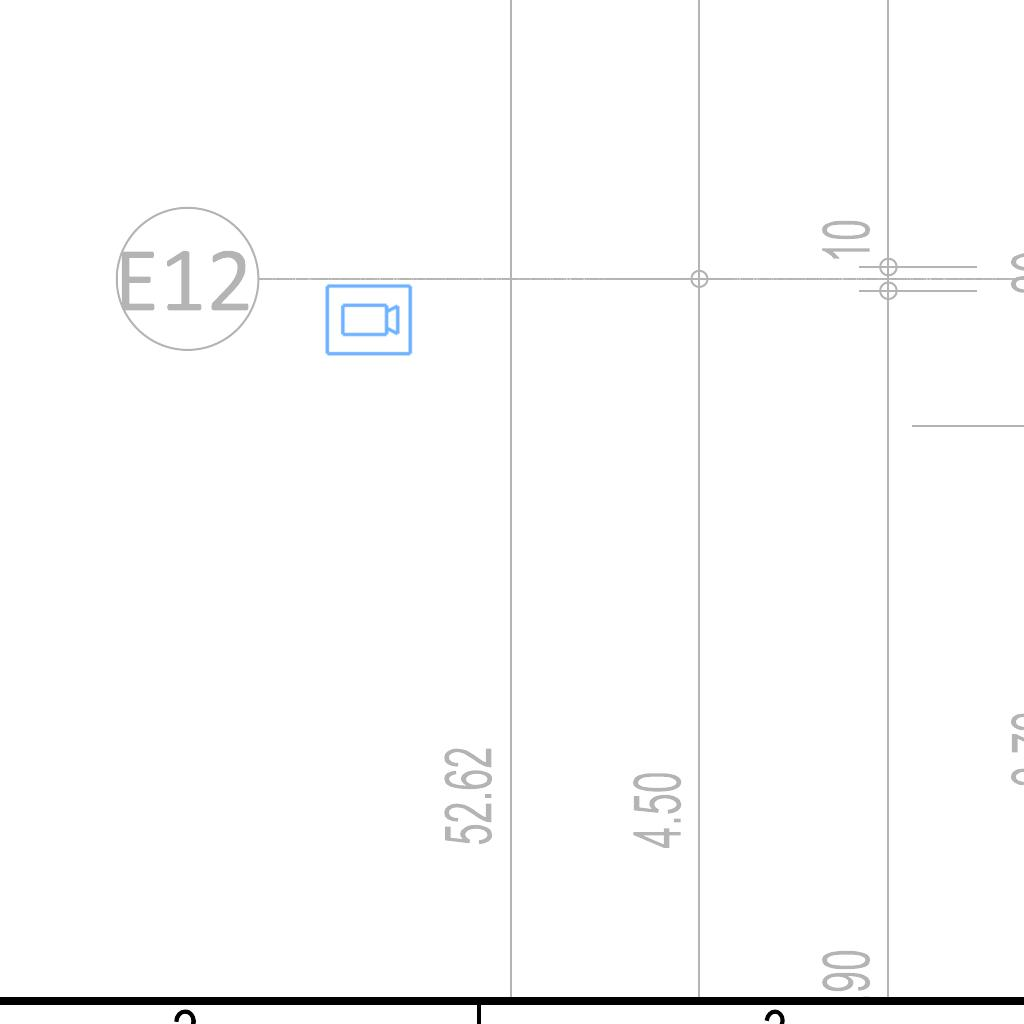KFO_Kamera_mit_Festobjektiv: (323, 282, 414, 359)
